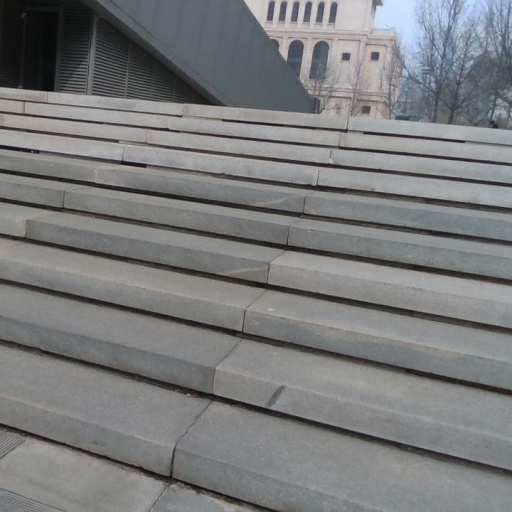Stairs: (0, 88, 512, 512)
